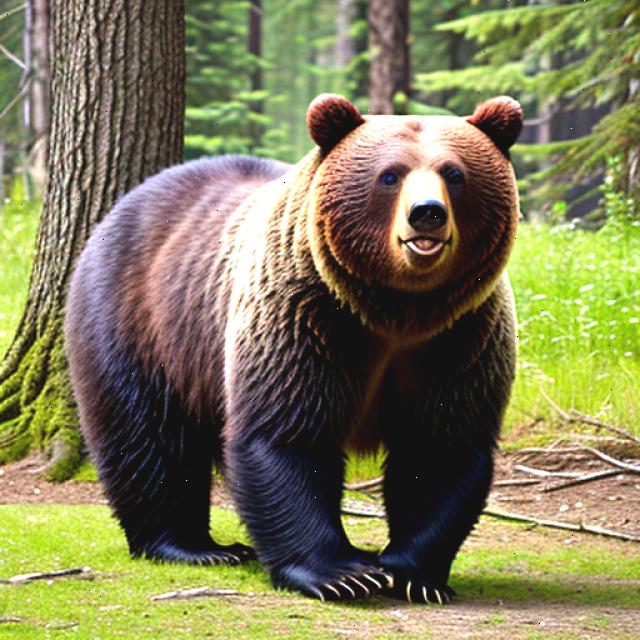bear: (53, 90, 540, 614)
